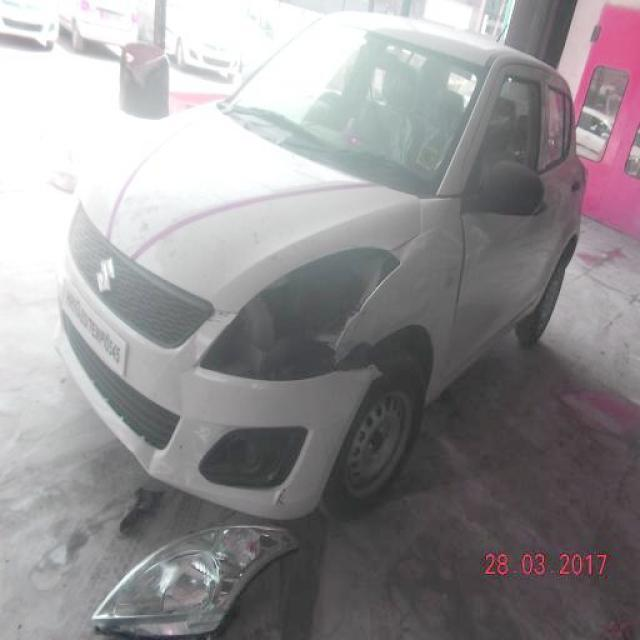car damage: (195, 249, 397, 383), (198, 428, 311, 494), (332, 343, 383, 380)
